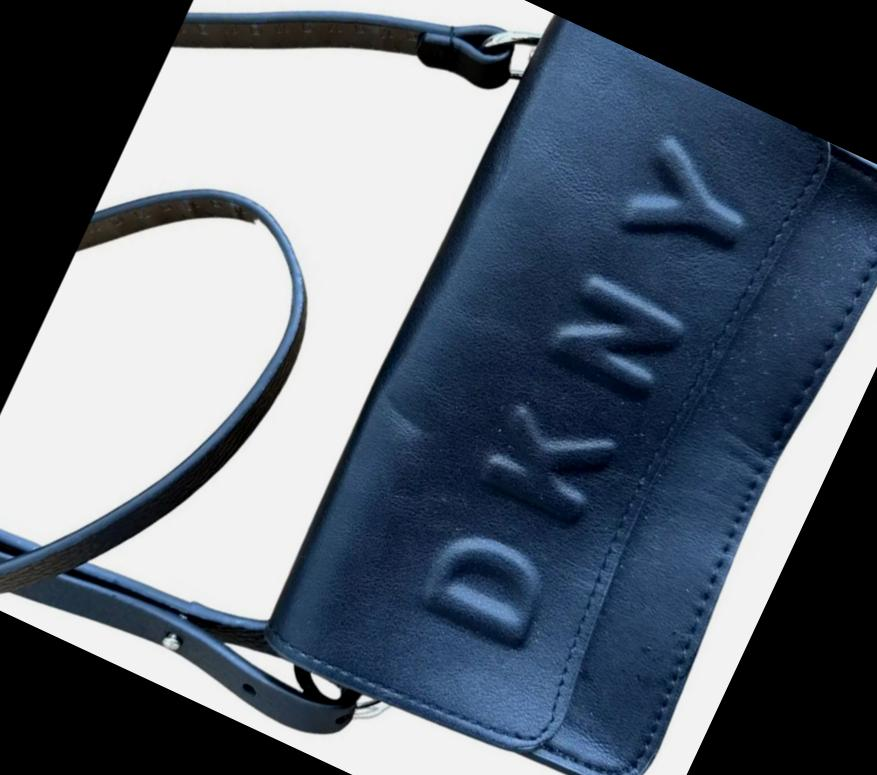DKNY: (412, 120, 765, 664)
